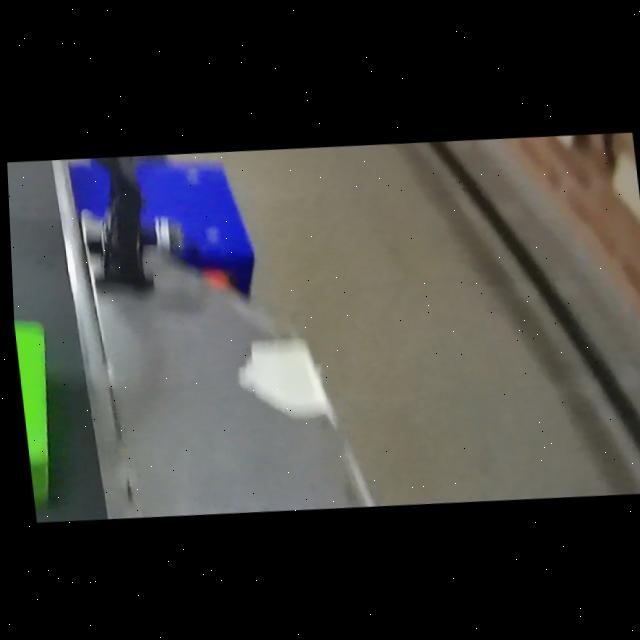greenBox: (10, 299, 66, 520)
